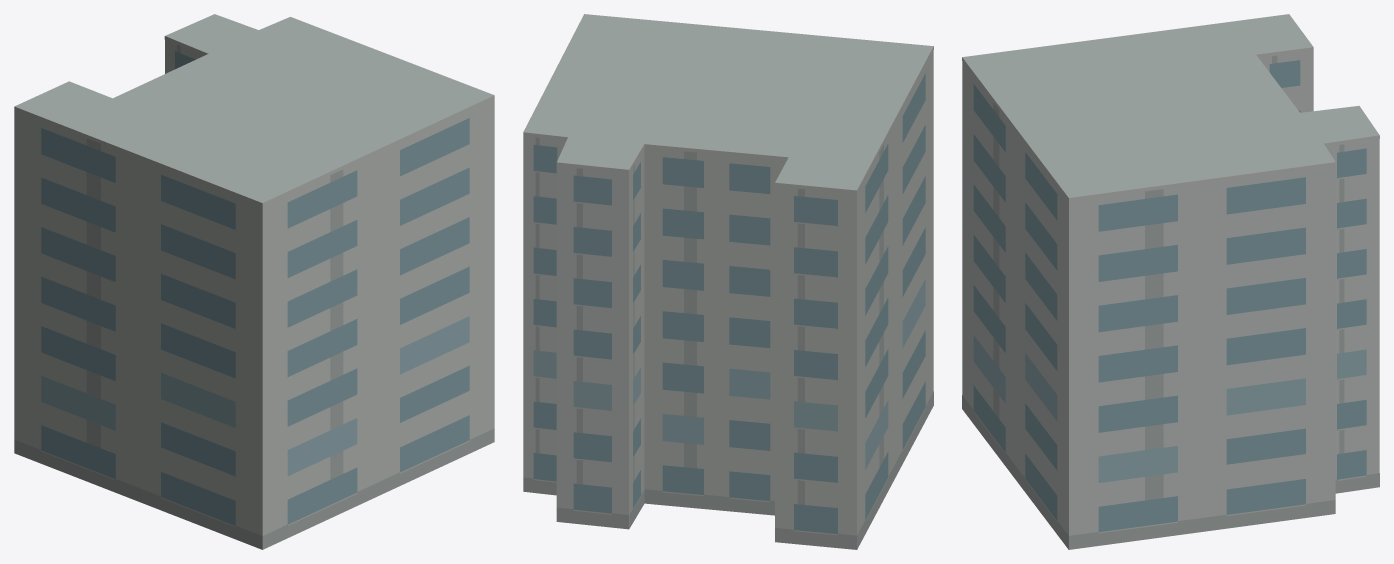
File: survey-upis-32628983.glb
3 views of the same model, side by side, from view 1: azimuth 30°, elevation 25°; view 2: azimuth 150°, elevation 25°; view 3: azimuth 270°, elevation 25° (orthographic). The views are drawn at different scales.
Parts seen in each view (by area): view 1: survey-upis-32628983.tmp; view 2: survey-upis-32628983.tmp; view 3: survey-upis-32628983.tmp.
Boxes of the visible parts, x1,y1,x2,y2 form: survey-upis-32628983.tmp: [14, 14, 494, 549]; survey-upis-32628983.tmp: [523, 14, 933, 549]; survey-upis-32628983.tmp: [962, 14, 1379, 549].
Bounding box in the file's own units: 26.49 × 23.6 × 25.4.
